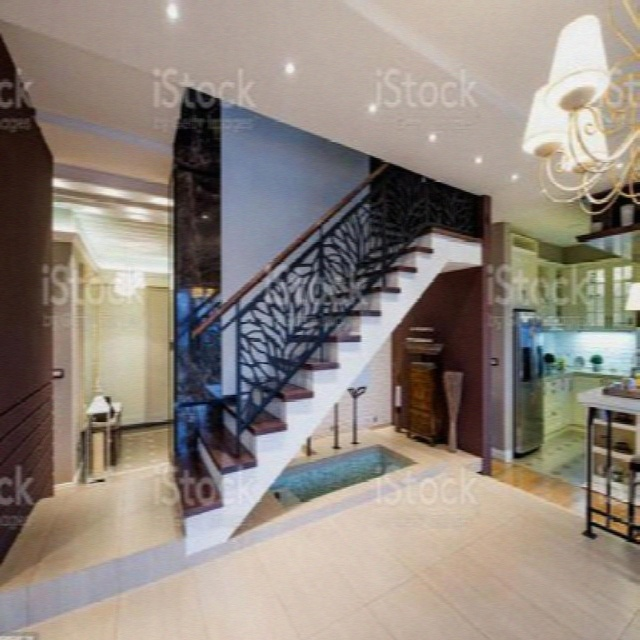stair: (182, 186, 483, 560)
